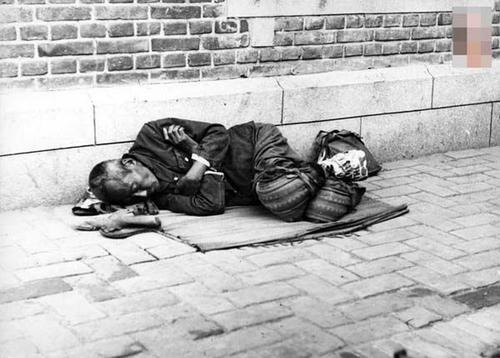down: (65, 96, 407, 258)
